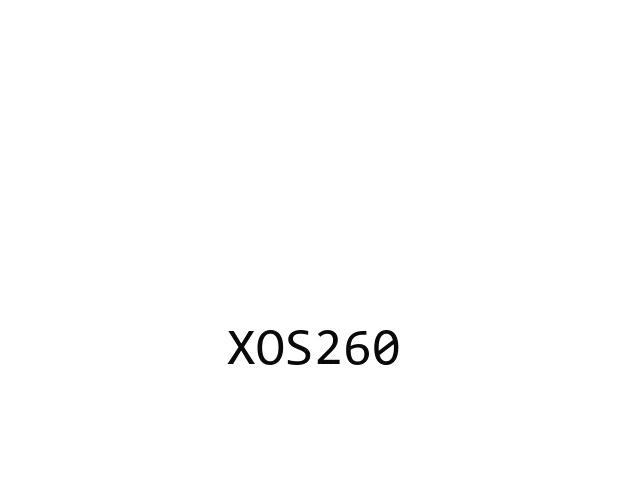OCR_AREA: (223, 326, 405, 369)
